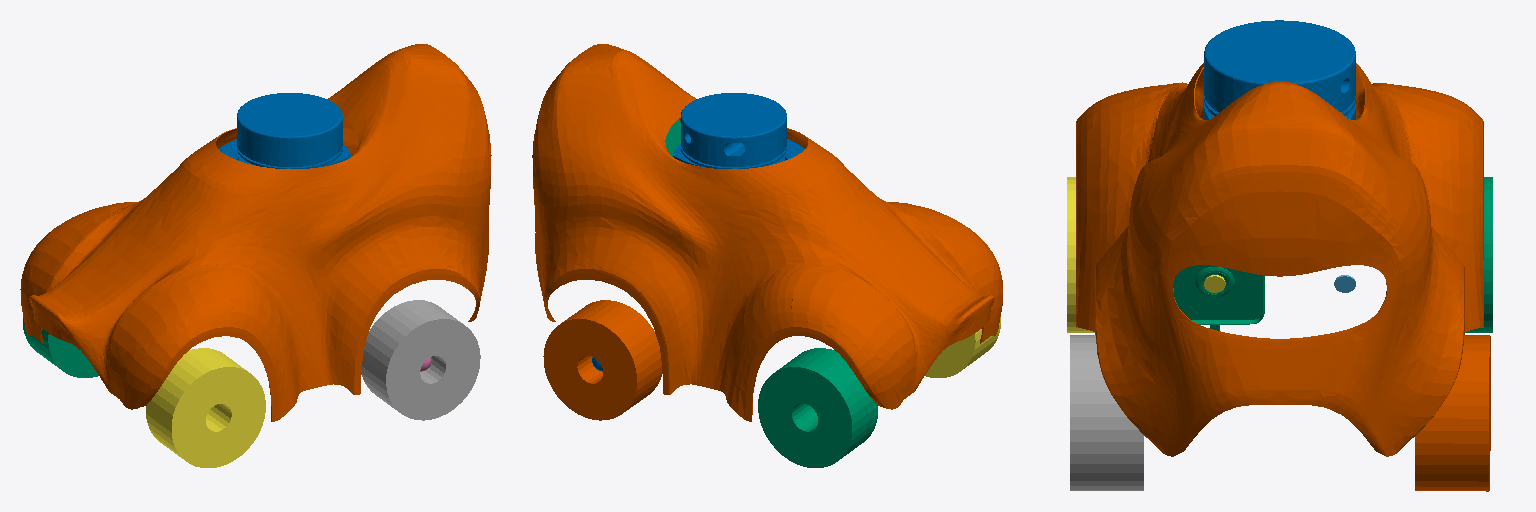
robot.urdf — deepracer:
<?xml version="1.0" encoding="utf-8"?>
<!-- This URDF was automatically created by SolidWorks to URDF Exporter! Originally created by [author] ([email redacted]) 
     Commit Version: 1.5.1-0-g916b5db  Build Version: 1.5.7152.31018
     For more information, please see http://wiki.ros.org/sw_urdf_exporter -->
<robot name="deepracer">

<!-- Links and Joints -->
  <link name="base_link" />
    
  <link name="chassis">
    <inertial>
      <origin
        xyz="0 0 0"
        rpy="0 0 0" />
      <mass
        value="5.0" />
      <inertia
        ixx="0.010609"
        ixy="0"
        ixz="0"
        iyy="0.050409"
        iyz="0"
        izz="0.05865" />
    </inertial>
    <visual>
      <origin
        xyz="0 0 0"
        rpy="0 0 0" />
      <geometry>
        <mesh
          filename="package://site/meshes/deepracer/chassis.STL" />
      </geometry>
    </visual>
  </link>
  
  <joint name="base_link_joint" type="fixed">
    <origin xyz="0 0 0.023249" rpy="0 0 0" />
    <parent link="base_link" />
    <child link="chassis" />
  </joint>
  
  <link
    name="left_rear_wheel">
    <inertial>
      <origin
        xyz="0 0 0"
        rpy="0 0 0" />
      <mass
        value="0.34055" />
      <inertia
        ixx="0.00026046"
        ixy="0"
        ixz="0"
        iyy="0.00041226"
        iyz="0"
        izz="0.00026046" />
    </inertial>
    <visual>
      <origin
        xyz="0 0 0"
        rpy="0 0 0" />
      <geometry>
        <mesh
          filename="package://site/meshes/deepracer/left_rear_wheel.STL" />
      </geometry>
    </visual>
    <collision>
      <origin
        xyz="0 0 0"
        rpy="0 0 0" />
      <geometry>
        <mesh
          filename="package://site/meshes/deepracer/left_rear_wheel.STL" />
      </geometry>
    </collision>
  </link>
  
  <joint
    name="left_rear_wheel_joint"
    type="continuous">
    <origin
      xyz="-0.081663 0.08105 0.01575"
      rpy="0 0 0" />
    <parent
      link="chassis" />
    <child
      link="left_rear_wheel" />
    <axis
      xyz="0 1 0" />
    <limit
      effort="10"
      velocity="100" />
  </joint>
  
  
  <link
    name="right_rear_wheel">
    <inertial>
      <origin
        xyz="0 0 0"
        rpy="0 0 0" />
      <mass
        value="0.34055" />
      <inertia
        ixx="0.00026046"
        ixy="0"
        ixz="0"
        iyy="0.00041226"
        iyz="0"
        izz="0.00026046" />
    </inertial>
    <visual>
      <origin
        xyz="0 0 0"
        rpy="0 0 0" />
      <geometry>
        <mesh
          filename="package://site/meshes/deepracer/right_rear_wheel.STL" />
      </geometry>
    </visual>
    <collision>
      <origin
        xyz="0 0 0"
        rpy="0 0 0" />
      <geometry>
        <mesh
          filename="package://site/meshes/deepracer/right_rear_wheel.STL" />
      </geometry>
    </collision>
  </link>
  

  <joint
    name="right_rear_wheel_joint"
    type="continuous">
    <origin
      xyz="-0.081663 -0.08105 0.01575"
      rpy="0 0 0" />
    <parent
      link="chassis" />
    <child
      link="right_rear_wheel" />
    <axis
      xyz="0 1 0" />
    <limit
      effort="10"
      velocity="100" />
  </joint>
  
  
  <link
    name="left_steering_hinge">
    <inertial>
      <origin
        xyz="0 0 0"
        rpy="0 0 0" />
      <mass
        value="0.1" />
      <inertia
        ixx="4E-06"
        ixy="0"
        ixz="0"
        iyy="4E-06"
        iyz="0"
        izz="4E-06" />
      </inertial>
    <visual>
      <origin
        xyz="0 0 0"
        rpy="0 0 0" />
      <geometry>
        <mesh
          filename="package://site/meshes/deepracer/left_steering_hinge.STL" />
      </geometry>
    </visual>
  </link>
  
  <joint
    name="left_steering_hinge_joint"
    type="continuous">
    <origin
      xyz="0.082311 0.079601 0.011759"
      rpy="0 0 0" />
    <parent
      link="chassis" />
    <child
      link="left_steering_hinge" />
    <axis
      xyz="0 0 1" />
    <limit
      lower="-1"
      upper="1"
      effort="10"
      velocity="100" />
  </joint>
  
  
  <link
    name="left_front_wheel">
    <inertial>
      <origin
        xyz="0 0 0"
        rpy="0 0 0" />
      <mass
        value="0.34055" />
      <inertia
        ixx="0.00026046"
        ixy="0"
        ixz="0"
        iyy="0.00041226"
        iyz="0"
        izz="0.00026046" />
    </inertial>
    <visual>
      <origin
        xyz="0 0 0"
        rpy="0 0 0" />
      <geometry>
        <mesh
          filename="package://site/meshes/deepracer/left_front_wheel.STL" />
      </geometry>
    </visual>
    <collision>
      <origin
        xyz="0 0 0"
        rpy="0 0 0" />
      <geometry>
        <mesh
          filename="package://site/meshes/deepracer/left_front_wheel.STL" />
      </geometry>
    </collision>
  </link>
  
  <joint
    name="left_front_wheel_joint"
    type="continuous">
    <origin
      xyz="0 0 0"
      rpy="0 0 0" />
    <parent
      link="left_steering_hinge" />
    <child
      link="left_front_wheel" />
    <axis
      xyz="0 1 0" />
    <limit
      effort="10"
      velocity="100" />
  </joint>
  
  
  <link
    name="right_steering_hinge">
    <inertial>
      <origin
        xyz="0 0 0"
        rpy="0 0 0" />
      <mass
        value="0.1" />
      <inertia
        ixx="4E-06"
        ixy="0"
        ixz="0"
        iyy="4E-06"
        iyz="0"
        izz="4E-06" />
    </inertial>
    <visual>
      <origin
        xyz="0 0 0"
        rpy="0 0 0" />
      <geometry>
        <mesh
          filename="package://site/meshes/deepracer/right_steering_hinge.STL" />
      </geometry>
    </visual>
  </link>
  
  <joint
    name="right_steering_hinge_joint"
    type="continuous">
    <origin
      xyz="0.082311 -0.079601 0.011759"
      rpy="0 0 0" />
    <parent
      link="chassis" />
    <child
      link="right_steering_hinge" />
    <axis
      xyz="0 0 1" />
    <limit
      lower="-1"
      upper="1"
      effort="10"
      velocity="100" />
  </joint>
  <link
    name="right_front_wheel">
    <inertial>
      <origin
        xyz="0 0 0"
        rpy="0 0 0" />
      <mass
        value="0.34055" />
      <inertia
        ixx="0.00026046"
        ixy="0"
        ixz="0"
        iyy="0.00041226"
        iyz="0"
        izz="0.00026046" />
    </inertial>
    <visual>
      <origin
        xyz="0 0 0"
        rpy="0 0 0" />
      <geometry>
        <mesh
          filename="package://site/meshes/deepracer/right_front_wheel.STL" />
      </geometry>
    </visual>
    <collision>
      <origin
        xyz="0 0 0"
        rpy="0 0 0" />
      <geometry>
        <mesh
          filename="package://site/meshes/deepracer/right_front_wheel.STL" />
      </geometry>
    </collision>
  </link>
  
  <joint
    name="right_front_wheel_joint"
    type="continuous">
    <origin
      xyz="0 0 0"
      rpy="0 0 0" />
    <parent
      link="right_steering_hinge" />
    <child
      link="right_front_wheel" />
    <axis
      xyz="0 1 0" />
    <limit
      effort="10"
      velocity="100" />
  </joint>
  
  <link
    name="zed_camera_link_leftcam">
    <inertial>
      <origin
        xyz="0.019881 6.2875E-05 0.034966"
        rpy="0 0 0" />
      <mass
        value="1e-3" />
      <inertia 
        ixx="1e-6"
        ixy="0"
        ixz="0"
        iyy="1e-6"
        iyz="0"
        izz="1e-6" />
    </inertial>
    <visual>
      <origin
        xyz="0 0 0"
        rpy="0 0 0" />
      <geometry>
        <mesh
          filename="package://site/meshes/deepracer/zed_camera_link_leftcam.STL" />
      </geometry>
    </visual>
  </link>
  
  <joint
    name="zed_camera_joint_leftcam"
    type="fixed">
    <origin
      xyz="0.091711 0.03 0.080023"
      rpy="0 0.2618 0" />
    <parent
      link="chassis" />
    <child
      link="zed_camera_link_leftcam" />
    <axis
      xyz="0 0 0" />
  </joint>
  <link
    name="camera_link_leftcam">
    <inertial>
      <origin
        xyz="0.0005 0 0"
        rpy="0 0 0" />
      <mass
        value="1e-3" />
      <inertia 
        ixx="1e-6"
        ixy="0"
        ixz="0"
        iyy="1e-6"
        iyz="0"
        izz="1e-6" />
    </inertial>
  <visual>
      <origin
        xyz="0 0 0"
        rpy="0 0 0" />
      <geometry>
        <mesh
          filename="package://site/meshes/deepracer/camera_link_leftcam.STL" />
      </geometry>
    </visual>
  </link>
  <joint
    name="camera_joint_leftcam"
    type="fixed">
    <origin
      xyz="0.044755 0 0.04"
      rpy="0 0 0" />
    <parent
      link="zed_camera_link_leftcam" />
    <child
      link="camera_link_leftcam" />
    <axis
      xyz="0 0 0" />
  </joint>
  <link
    name="zed_camera_link_rightcam">
    <inertial>
      <origin
        xyz="0.019881 6.2895E-05 0.034966"
        rpy="0 0 0" />
      <mass
        value="1e-3" />
      <inertia 
        ixx="1e-6"
        ixy="0"
        ixz="0"
        iyy="1e-6"
        iyz="0"
        izz="1e-6" />
    </inertial>
    <visual>
      <origin
        xyz="0 0 0"
        rpy="0 0 0" />
      <geometry>
        <mesh
          filename="package://site/meshes/deepracer/zed_camera_link_rightcam.STL" />
      </geometry>
    </visual>
  </link>

  <joint
    name="zed_camera_joint_rightcam"
    type="fixed">
    <origin
      xyz="0.091711 -0.03 0.080023"
      rpy="0 0.2618 0" />
    <parent
      link="chassis" />
    <child
      link="zed_camera_link_rightcam" />
    <axis
      xyz="0 0 0" />
  </joint>
  <link
    name="camera_link_rightcam">
    <inertial>
      <origin
        xyz="0.0005 0 0"
        rpy="0 0 0" />
      <mass
        value="1e-3" />
      <inertia 
        ixx="1e-6"
        ixy="0"
        ixz="0"
        iyy="1e-6"
        iyz="0"
        izz="1e-6" />
    </inertial>
  <visual>
      <origin
        xyz="0 0 0"
        rpy="0 0 0" />
      <geometry>
        <mesh
          filename="package://site/meshes/deepracer/camera_link_rightcam.STL" />
      </geometry>
    </visual>
  </link>

  <joint
    name="camera_joint_rightcam"
    type="fixed">
    <origin
      xyz="0.044755 0 0.04"
      rpy="0 0 0" />
    <parent
      link="zed_camera_link_rightcam" />
    <child
      link="camera_link_rightcam" />
    <axis
      xyz="0 0 0" />
  </joint>
  <link
    name="laser">
    <inertial>
      <origin
        xyz="0.006099 0.00028423 -0.012654"
        rpy="0 0 0" />
      <mass
        value="1E-5" />
      <inertia
        ixx="1e-6"
        ixy="0"
        ixz="0"
        iyy="1e-6"
        iyz="0"
        izz="1e-6" />
    </inertial>
    <visual>
      <origin
        xyz="0 0 0"
        rpy="0 0 0" />
      <geometry>
        <mesh
          filename="package://site/meshes/deepracer/laser.STL" />
      </geometry>
    </visual>
    <collision>
      <origin
        xyz="0 0 0"
        rpy="0 0 0" />
      <geometry>
        <mesh
          filename="package://site/meshes/deepracer/laser.STL" />
      </geometry>
    </collision>
  </link>

  <joint
    name="hokuyo_joint"
    type="fixed">
    <origin
      xyz="0.02913 0 0.16145" 
      rpy="0 0 3.1416" />
    <parent
      link="chassis" />
    <child
      link="laser" />
    <axis
      xyz="0 0 0" />
  </joint>
  <link
    name="car_body_link_v3">
    <inertial>
      <origin
        xyz="0 0 0"
        rpy="0 0 0" />
      <mass
        value="0" />
      <inertia
        ixx="0"
        ixy="0"
        ixz="0"
        iyy="0"
        iyz="0"
        izz="0" />
    </inertial>
    <visual>
      <origin
        xyz="0 0 0"
        rpy="0 0 0" />
      <geometry>
        <mesh
          filename="package://site/meshes/deepracer/car_body_link_lidar_v3.STL" />
      </geometry>
    </visual>
    <collision>
      <origin
        xyz="0 0 0"
        rpy="0 0 0" />
      <geometry>
        <mesh
          filename="package://site/meshes/deepracer/car_body_link_lidar_v3.STL" />
      </geometry>
    </collision>
  </link>

  <joint
    name="car_body_joint"
    type="fixed">
    <origin
      xyz="-0.0762 0 2E-05"
      rpy="0 0 0" />
    <parent
      link="chassis" />
    <child
      link="car_body_link_v3" />
    <axis
      xyz="0 0 0" />
  </joint>
  
<!-- Gazebo Tags -->

<!-- Vehicle body -->
  <gazebo reference = "chassis">
   <material>Gazebo/Grey</material>
   <mu1 value="0.0"/>
   <mu2 value="0.0"/>
   <kp  value="1000000.0" />
  </gazebo>
  <gazebo reference = "left_rear_wheel">
   <material>Gazebo/DarkGrey</material>
   <mu1 value="0.5"/>
   <mu2 value="0.5"/>
   <kp  value="1000000.0" />
   <kd  value="1.0" />
   <fdir1 value="1 0 0"/>
  </gazebo>
  <gazebo reference = "left_front_wheel">
   <material>Gazebo/DarkGrey</material>
   <mu1 value="0.5"/>
   <mu2 value="0.5"/>
   <kp  value="1000000.0" />
   <kd  value="1.0" />
   <fdir1 value="1 0 0"/>
  </gazebo>
  <gazebo reference = "right_rear_wheel">
   <material>Gazebo/DarkGrey</material>
   <mu1 value="0.5"/>
   <mu2 value="0.5"/>
   <kp  value="1000000.0" />
   <kd  value="1.0" />
   <fdir1 value="1 0 0"/>
  </gazebo>
  <gazebo reference = "right_front_wheel">
   <material>Gazebo/DarkGrey</material>
   <mu1 value="0.5"/>
   <mu2 value="0.5"/>
   <kp  value="1000000.0" />
   <kd  value="1.0" />
   <fdir1 value="1 0 0"/>
  </gazebo>
  <gazebo reference = "left_steering_hinge">
   <material>Gazebo/DarkGrey</material>
  </gazebo>
  <gazebo reference = "right_steering_hinge">
   <material>Gazebo/DarkGrey</material>
  </gazebo>
  <gazebo reference = "zed_camera_link_leftcam">
   <material>Gazebo/DarkGrey</material>
  </gazebo>
  <gazebo reference = "zed_camera_link_rightcam">
   <material>Gazebo/DarkGrey</material>
  </gazebo>
  <gazebo reference = "laser">
   <material>Gazebo/DarkGrey</material>
  </gazebo>
  <gazebo reference = "car_body_link_v3">
   <material>Gazebo/Grey</material>
  </gazebo>
  
<!-- Chassis Controller-->
    <gazebo>
      <plugin name='gazebo_ros_deepracer_drive' filename='libgazebo_ros_deepracer_drive.so'>
        
        <update_rate>15.0</update_rate>

        <!-- Max absolute steer angle for tyre in radians-->
        <!-- Any cmd_vel angular z greater than this would be capped -->
        <max_steer>0.523599</max_steer>

        <!-- Max absolute linear speed in m/s -->
        <max_speed>4</max_speed> 
        
        <!-- Radius of rear wheels, in meters -->
        <wheel_radius>0.03</wheel_radius>
        <!-- Distance between front and rear axles, in meters -->
        <wheel_base>0.164023</wheel_base>
        <!-- Distance between the wheels, in meters -->
        <wheel_separation>0.159202</wheel_separation>

        <publish_odom>true</publish_odom>
        <publish_odom_tf>true</publish_odom_tf>

        <odometry_frame>odom</odometry_frame>
        <robot_base_frame>base_link</robot_base_frame>
	
      </plugin>
  </gazebo>
  
<!-- Stere Cameras -->
  <gazebo reference="camera_link_leftcam">
    <material>Gazebo/White</material>
    <sensor type="camera" name="zed_camera_left_sensor">
      <pose>0 0 0 0 0 0</pose>
      <update_rate>10</update_rate>
      <camera name="zed_camera_left_camera">
        <horizontal_fov>1.13</horizontal_fov>
        <image>
          <width>640</width>
          <height>480</height>
          <format>R8G8B8</format>
        </image>
        <clip>
          <near>0.02</near>
          <far>300</far>
        </clip>
      </camera>
      <plugin name="camera_controller" filename="libgazebo_ros_camera.so">
        <alwaysOn>true</alwaysOn>
        <!-- Turn down if virtual machine-->
        <updateRate>10</updateRate>
        <cameraName>deepracer/camera/zed_left</cameraName>
        <imageTopicName>image_rect_color_left</imageTopicName>
        <cameraInfoTopicName>camera_info_left</cameraInfoTopicName>
        <frameName>camera_link_left</frameName>
        <hackBaseline>0.12</hackBaseline><!-- set this to 0.12 for the second camera -->
        <distortionK1>0.0</distortionK1>
        <distortionK2>0.0</distortionK2>
        <distortionK3>0.0</distortionK3>
        <distortionT1>0.0</distortionT1>
        <distortionT2>0.0</distortionT2>
      </plugin>
    </sensor>
  </gazebo>

  <gazebo reference="camera_link_rightcam">
    <material>Gazebo/White</material>
    <sensor type="camera" name="zed_camera_right_sensor">
      <pose>0 0 0 0 0 0</pose>
      <update_rate>10</update_rate>
      <camera name="zed_camera_right_camera">
        <horizontal_fov>1.13</horizontal_fov>
        <image>
          <width>640</width>
          <height>480</height>
          <format>R8G8B8</format>
        </image>
        <clip>
          <near>0.02</near>
          <far>300</far>
        </clip>
      </camera>
      <plugin name="camera_controller_right" filename="libgazebo_ros_camera.so">
        <alwaysOn>true</alwaysOn>
        <!-- Turn down if virtual machine-->
        <updateRate>10</updateRate>
        <cameraName>deepracer/camera/zed_right</cameraName>
        <imageTopicName>image_rect_color_right</imageTopicName>
        <cameraInfoTopicName>camera_info_right</cameraInfoTopicName>
        <frameName>camera_link_right</frameName>
        <hackBaseline>0.0</hackBaseline>
        <distortionK1>0.0</distortionK1>
        <distortionK2>0.0</distortionK2>
        <distortionK3>0.0</distortionK3>
        <distortionT1>0.0</distortionT1>
        <distortionT2>0.0</distortionT2>
      </plugin>
    </sensor>
  </gazebo>

<!-- Laser Radar -->
  <gazebo reference="laser">
    <sensor type="ray" name="hokuyo_sensor">
      <pose>0 0 0 0 0 0</pose>
      <visualize>true</visualize>
      <update_rate>10</update_rate>
      <ray>
        <scan>
          <horizontal>
            <samples>600</samples>
            <resolution>1</resolution>
            <min_angle>-2.61799</min_angle>
            <max_angle>2.61799</max_angle>
          </horizontal>
        </scan>
        <range>
          <min>0.15</min>
          <max>10</max>
          <resolution>0.01</resolution>
        </range>
        <noise>
          <mean>0.0</mean>
          <stddev>0.01</stddev>
        </noise>
      </ray>

       <plugin name="rp_lidar" filename="libgazebo_ros_ray_sensor.so">
          <ros>
            <argument>~/out:=scan</argument>
          </ros>
          <output_type>sensor_msgs/LaserScan</output_type>
          <frame_name>laser</frame_name>
        </plugin>
    </sensor>
  </gazebo>
  
</robot>

--- Render facts (derived) ---
Views: 3 orthographic renders of the robot side by side, from view 1: azimuth 30°, elevation 25°; view 2: azimuth 150°, elevation 25°; view 3: azimuth 270°, elevation 25°.
Robot: deepracer — 14 links, 13 joints (6 continuous, 7 fixed); root link base_link; default pose: every joint at zero.
Links seen in each view (by area): view 1: car_body_link_v3, right_front_wheel, right_rear_wheel, laser, left_rear_wheel; view 2: car_body_link_v3, left_front_wheel, left_rear_wheel, laser, right_rear_wheel; view 3: car_body_link_v3, laser, left_front_wheel, right_front_wheel, zed_camera_link_rightcam, right_rear_wheel, left_rear_wheel.
Boxes of the visible links, bbox=[...] form: car_body_link_v3: bbox=[20, 44, 491, 421]; right_front_wheel: bbox=[362, 300, 480, 420]; right_rear_wheel: bbox=[146, 348, 265, 467]; laser: bbox=[219, 93, 350, 168]; left_rear_wheel: bbox=[23, 318, 98, 377]; car_body_link_v3: bbox=[532, 44, 1002, 421]; left_front_wheel: bbox=[543, 300, 662, 420]; left_rear_wheel: bbox=[758, 348, 877, 467]; laser: bbox=[673, 93, 804, 168]; right_rear_wheel: bbox=[925, 317, 1000, 377]; car_body_link_v3: bbox=[1076, 63, 1483, 456]; laser: bbox=[1204, 20, 1355, 119]; left_front_wheel: bbox=[1415, 335, 1490, 491]; right_front_wheel: bbox=[1070, 335, 1143, 490]; zed_camera_link_rightcam: bbox=[1173, 265, 1264, 330]; right_rear_wheel: bbox=[1067, 177, 1094, 332]; left_rear_wheel: bbox=[1465, 177, 1492, 332].
Size in the robot's own frame: 0.3242 by 0.1961 by 0.2193 metres.
11 mesh visuals loaded from 13 distinct referenced files (11 binary STL); not drawn: 2 (reference not matched to a file when rendering).
